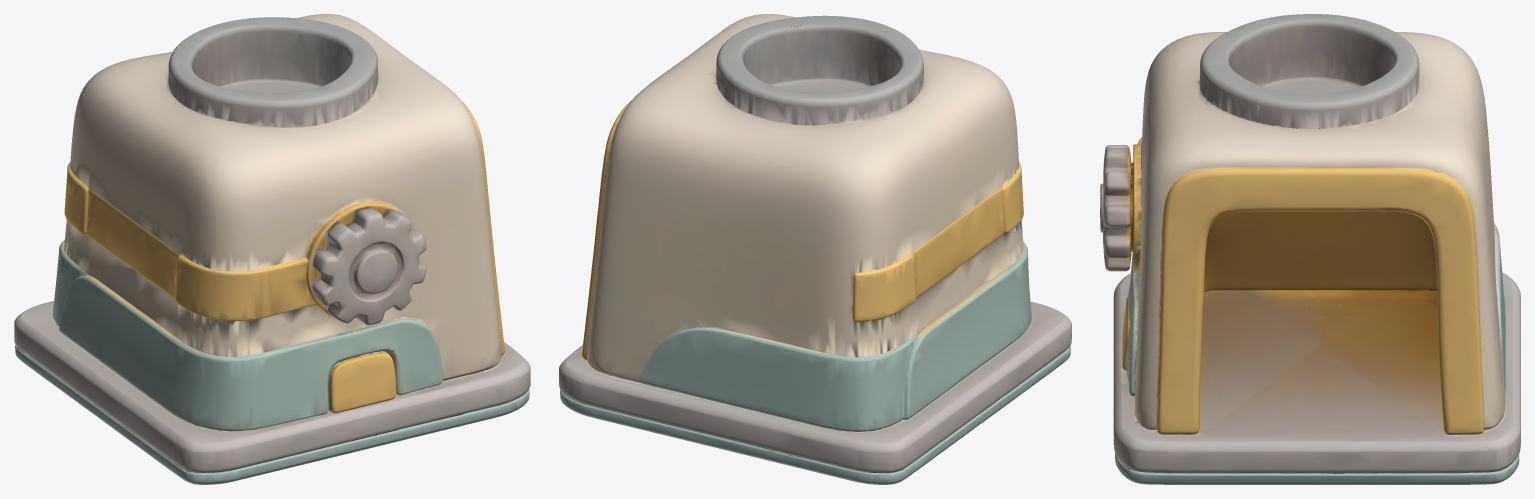
The model's file is hopper-housing-yellow.glb.
3 views of the same model, side by side, from view 1: azimuth 30°, elevation 25°; view 2: azimuth 150°, elevation 25°; view 3: azimuth 270°, elevation 25° (orthographic). The views are drawn at different scales.
Parts seen in each view (by area): view 1: hopper-housing-yellow; view 2: hopper-housing-yellow; view 3: hopper-housing-yellow.
Part boxes in pixels (x1,y1,x2,y2): hopper-housing-yellow: (14,14,530,484); hopper-housing-yellow: (559,14,1071,484); hopper-housing-yellow: (1100,14,1520,484).
Size of the model in its own units: 1.12 by 0.9939 by 1.11.
Materials: 1 (1 with a texture image).
